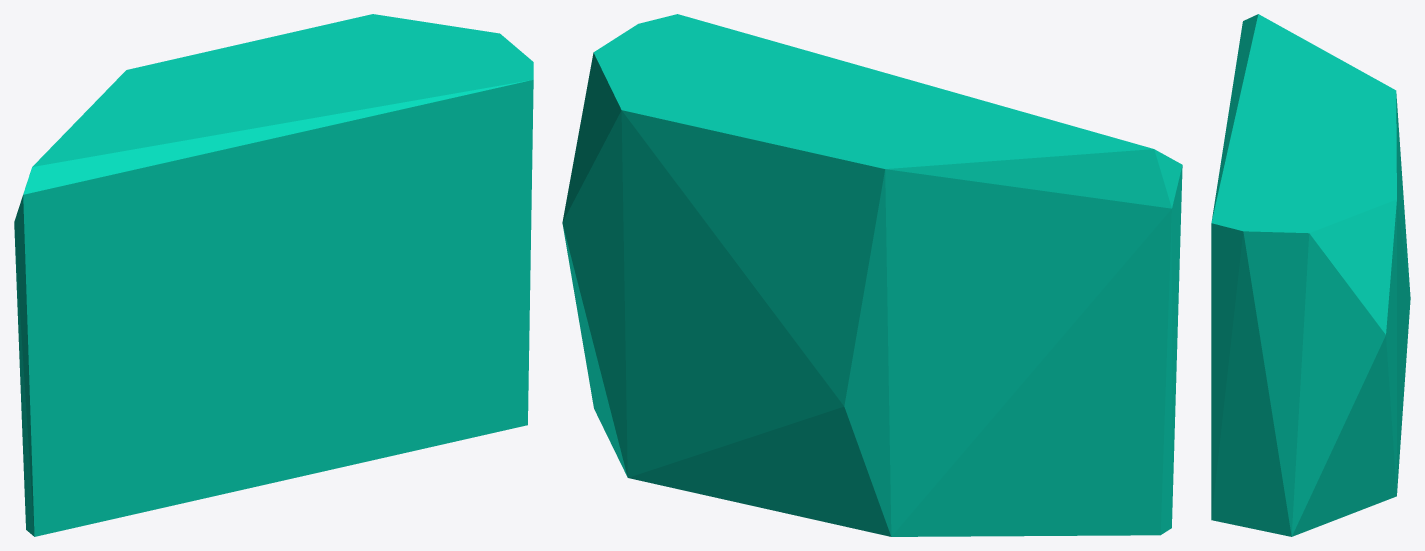
Rendered from model8_convex_piece_001.obj.
3 renders of one model, left to right at view 1: azimuth 30°, elevation 25°; view 2: azimuth 150°, elevation 25°; view 3: azimuth 270°, elevation 25°, orthographic. The views are drawn at different scales.
Bounding box in the file's own units: 0.0263 × 0.0173 × 0.00994.
